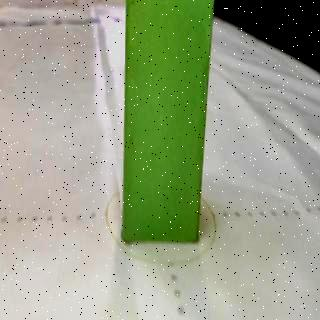greenbox: (121, 0, 215, 244)
